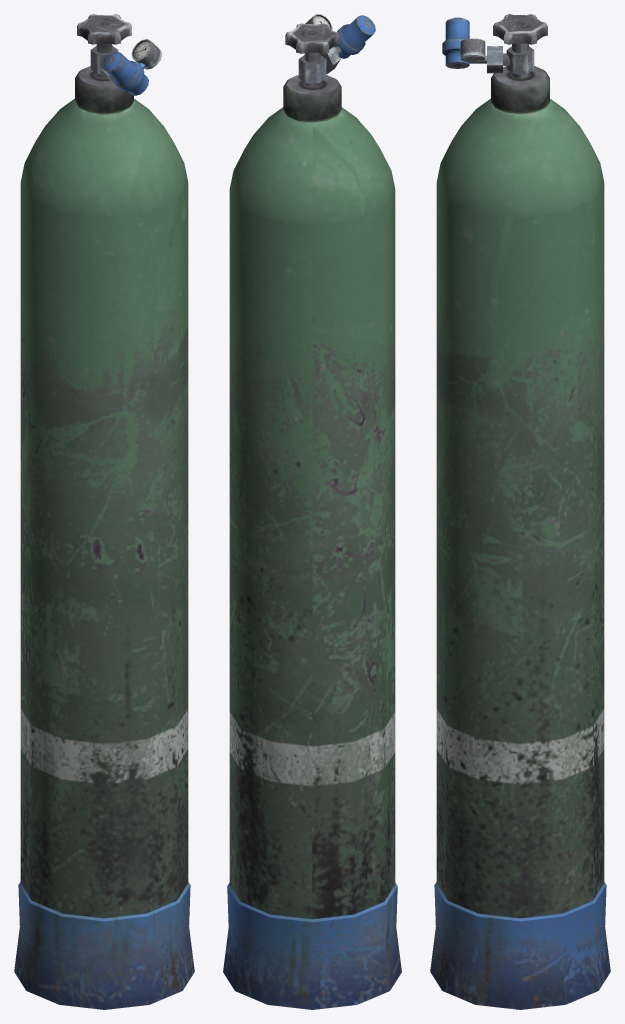
Rendered from SM_gas_cylinder_01.fbx.
The picture shows the model from 3 angles, left to right: view 1: azimuth 30°, elevation 25°; view 2: azimuth 150°, elevation 25°; view 3: azimuth 270°, elevation 25°; orthographic projection.
Visible parts, largest first — view 1: SM_gas_cylinder_01_LOD0; view 2: SM_gas_cylinder_01_LOD0; view 3: SM_gas_cylinder_01_LOD0.
Boxes of the visible parts, box(x1,y1,x2,y2) form: SM_gas_cylinder_01_LOD0: box(14, 14, 194, 1009); SM_gas_cylinder_01_LOD0: box(223, 14, 401, 1009); SM_gas_cylinder_01_LOD0: box(430, 14, 610, 1009).
Size of the model in its own units: 25.01 by 25.01 by 145.
1 material, 1 textured.
